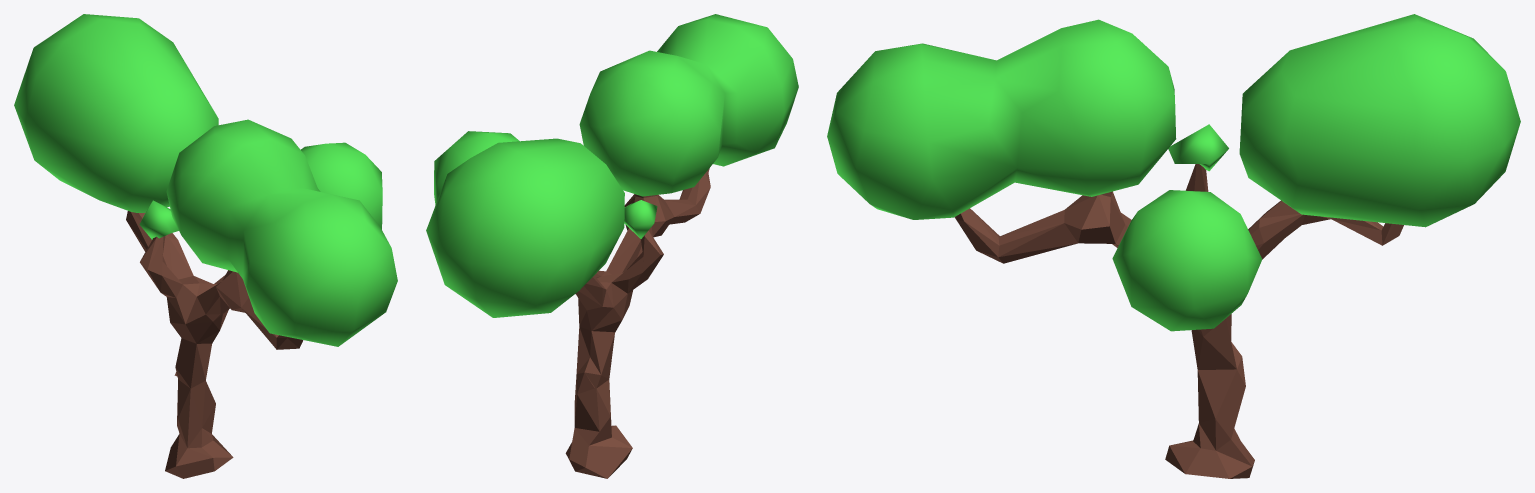
Rendered from Tree.fbx.
3 renders of one model, left to right at view 1: azimuth 30°, elevation 25°; view 2: azimuth 150°, elevation 25°; view 3: azimuth 270°, elevation 25°, orthographic. The views are drawn at different scales.
Parts seen in each view (by area): view 1: Tree_LOD0; view 2: Tree_LOD0; view 3: Tree_LOD0.
Boxes of the visible parts, left/top/right/bottom form: Tree_LOD0: left=14, top=14, right=397, bottom=478; Tree_LOD0: left=426, top=14, right=798, bottom=478; Tree_LOD0: left=827, top=14, right=1520, bottom=478.
Size of what is drawn, in the model's own units: 522 by 749 by 1036.
